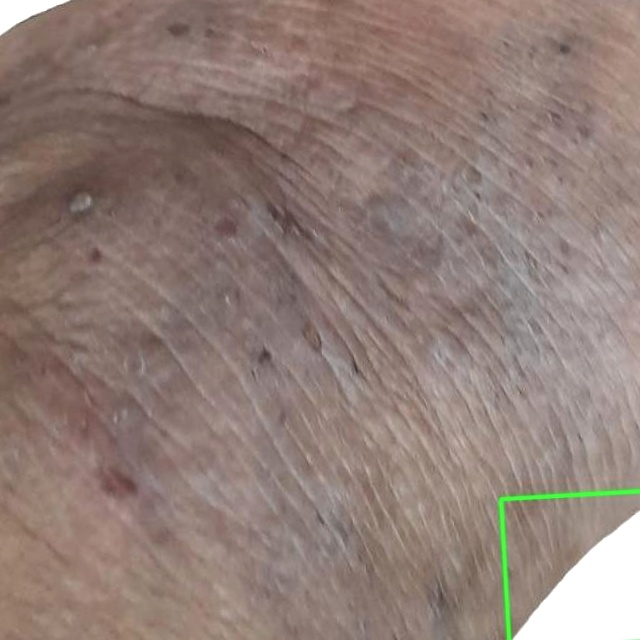Contact Dermatitis: (501, 491, 639, 639)
